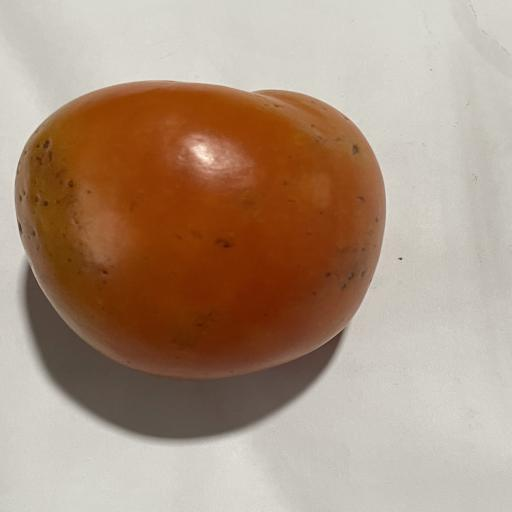unripe: (15, 81, 385, 379)
